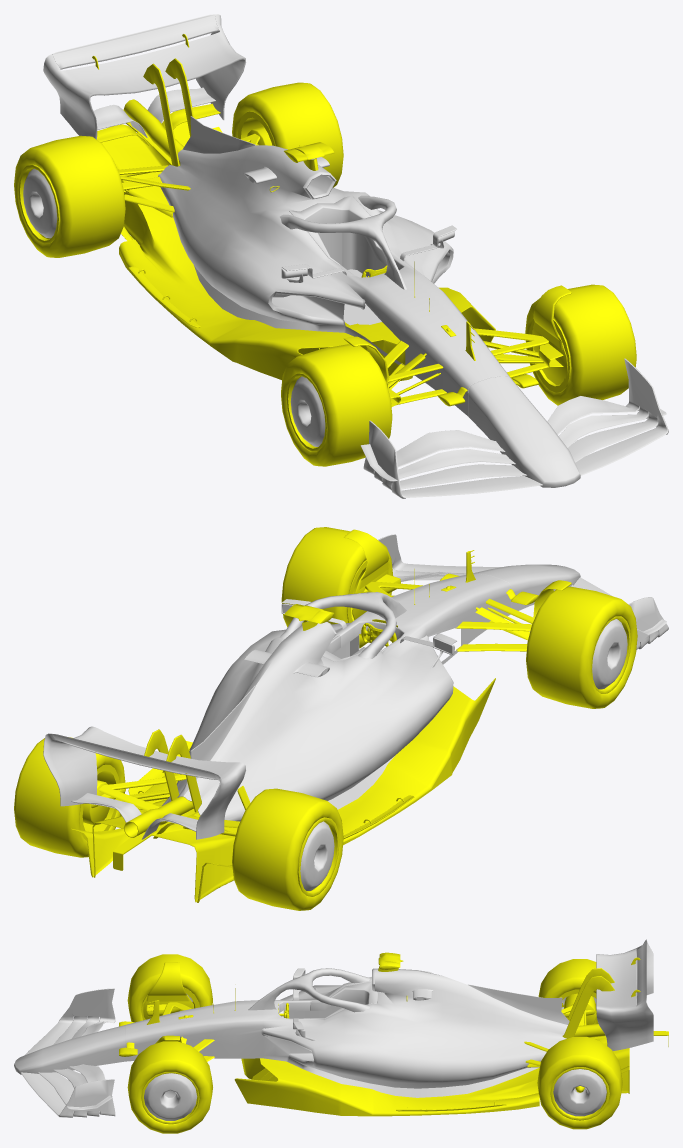
The model's file is F1PS_F1_Car_V08_SpoilerUV.glb.
3 views of the same model, one above another, from view 1: azimuth 30°, elevation 25°; view 2: azimuth 150°, elevation 25°; view 3: azimuth 270°, elevation 25° (orthographic). The views are drawn at different scales.
Visible parts, largest first — view 1: F1PS_F1_Car_Customizable, F1PS_F1_Car_Static; view 2: F1PS_F1_Car_Customizable, F1PS_F1_Car_Static; view 3: F1PS_F1_Car_Customizable, F1PS_F1_Car_Static.
Part boxes in pixels (bbox=[...]): F1PS_F1_Car_Customizable: bbox=[23, 14, 668, 498]; F1PS_F1_Car_Static: bbox=[14, 34, 636, 466]; F1PS_F1_Car_Customizable: bbox=[43, 534, 668, 890]; F1PS_F1_Car_Static: bbox=[14, 527, 637, 910]; F1PS_F1_Car_Customizable: bbox=[14, 939, 653, 1120]; F1PS_F1_Car_Static: bbox=[119, 952, 668, 1133].
Size of the model in its own units: 2.2 by 1.15 by 5.52.
2 materials, 1 textured.
